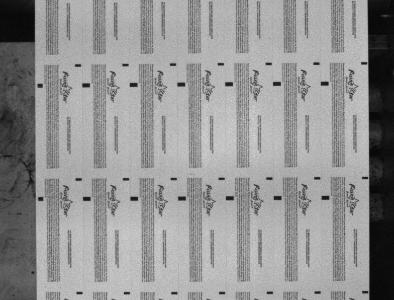backgroundclutter: (31, 271, 35, 274)
incorrect qblock: (37, 83, 43, 88), (38, 197, 43, 201)
qblock: (130, 196, 139, 201), (273, 81, 282, 86), (177, 82, 186, 87), (83, 196, 91, 201), (178, 196, 186, 201), (322, 195, 330, 200), (130, 82, 138, 87), (321, 81, 329, 86), (226, 196, 235, 200), (225, 82, 234, 86), (274, 196, 282, 200), (82, 83, 90, 87)
smallqblock: (218, 62, 225, 66), (170, 177, 178, 180), (267, 291, 274, 294), (362, 290, 369, 293), (219, 291, 226, 294), (171, 291, 178, 294), (76, 291, 83, 294), (123, 291, 130, 294), (315, 291, 322, 294), (122, 63, 129, 66), (170, 63, 177, 66), (75, 178, 82, 181), (266, 177, 273, 180), (218, 177, 225, 180), (361, 62, 368, 65), (362, 176, 369, 179), (75, 64, 81, 67), (314, 62, 320, 65), (266, 62, 272, 65), (123, 178, 130, 180), (314, 177, 321, 179)
